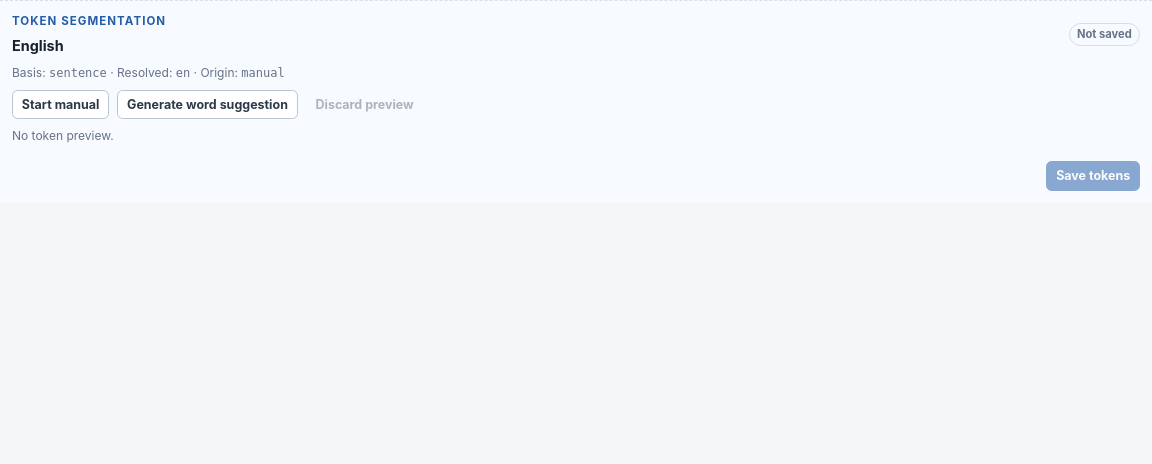
Scenario: TokenSegmentationPanel › names the POS cleanup when only a POS annotation depends on the token layer
Click the button "Start manual" at (61, 105), box [12,90,109,119]
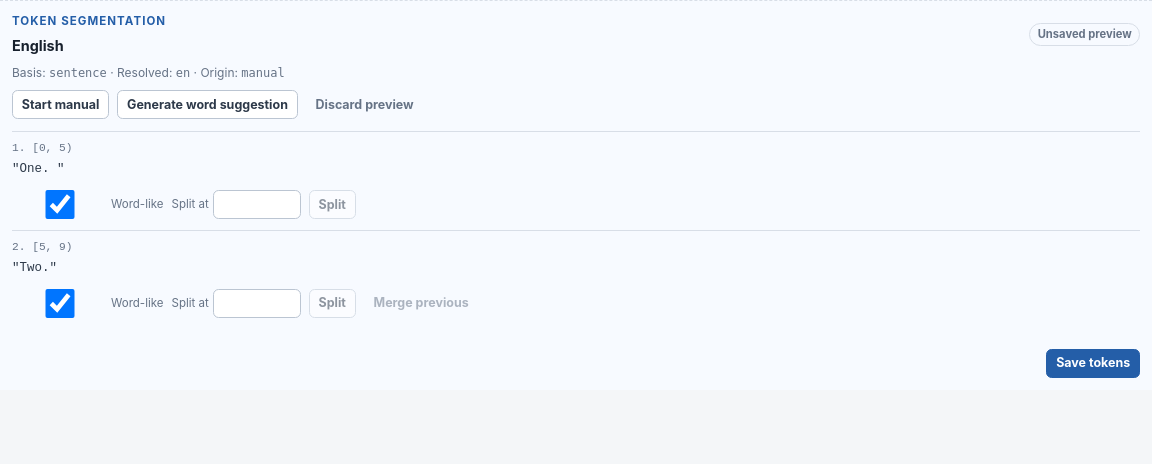
Click the button "Save tokens" at (1093, 364), box [1046,349,1140,378]
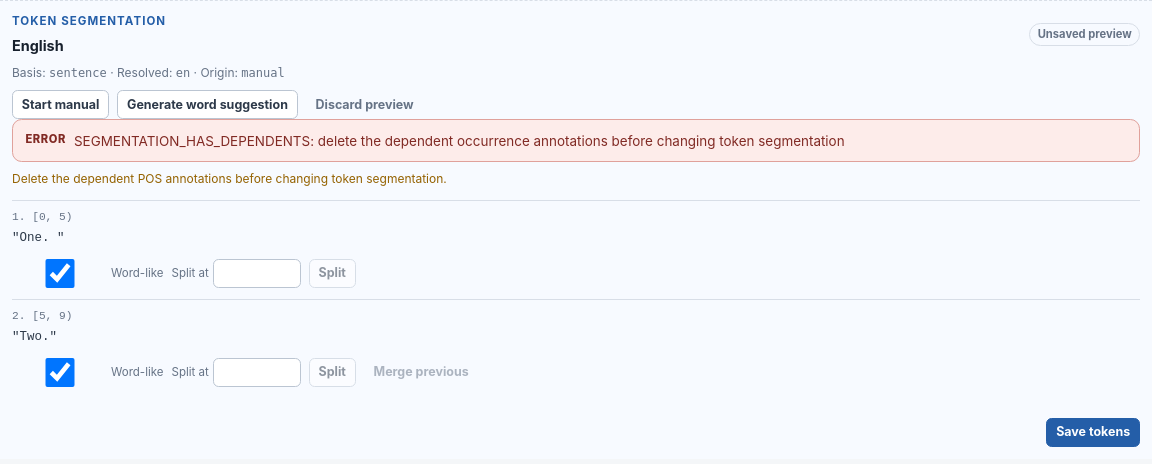
Check: the message with class "token-annotation-dependency" reads "Delete the dependent POS annotations before changing token segmentation.", box [12,171,447,186]
